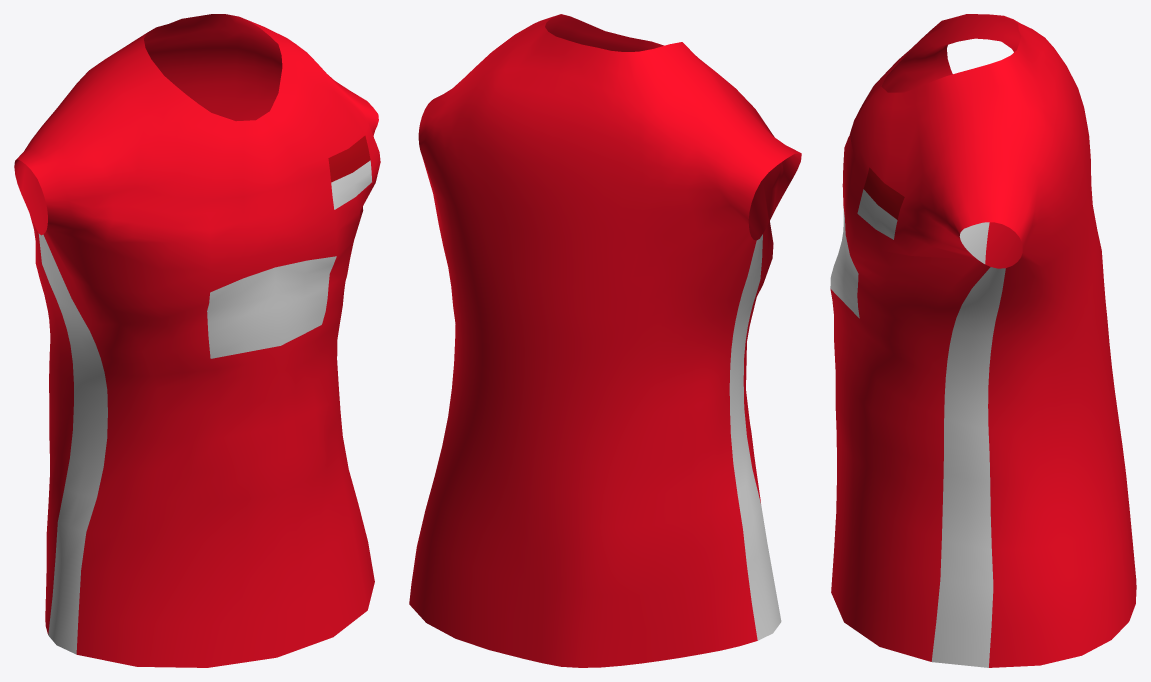
File: baju.fbx
The picture shows the model from 3 angles, left to right: view 1: azimuth 30°, elevation 25°; view 2: azimuth 150°, elevation 25°; view 3: azimuth 270°, elevation 25°; orthographic projection. The views are drawn at different scales.
Visible parts, largest first — view 1: Cube.003; view 2: Cube.003; view 3: Cube.003.
Boxes of the visible parts, x1=… form: Cube.003: x1=14, y1=14, x2=380, y2=667; Cube.003: x1=409, y1=14, x2=801, y2=667; Cube.003: x1=830, y1=14, x2=1136, y2=667.
Bounding box in the file's own units: 44.97 × 70.12 × 34.93.
